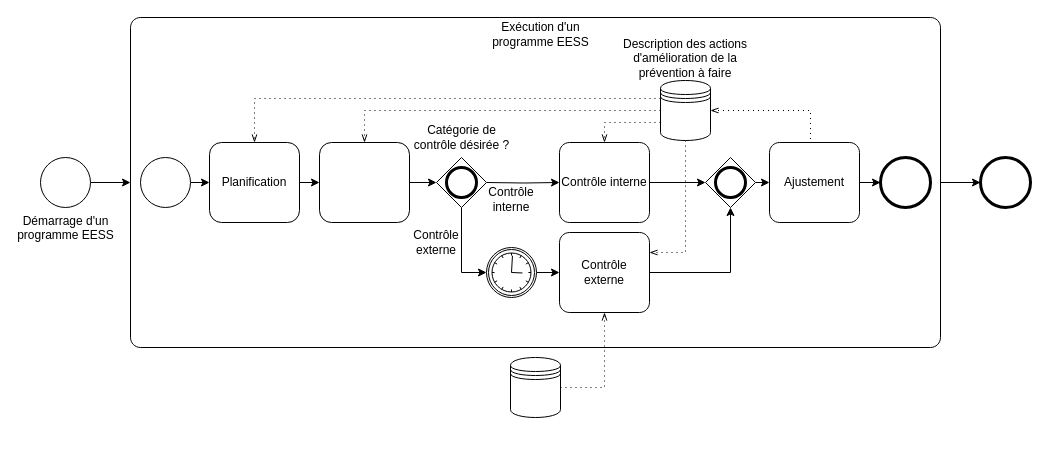
Image size: 1048x471. Some labels were removed from this diagram. Here are the shapes that lost their labels. From the top down, the centre of each, then its label:
At (364,182): "Déploiement".
At (511,272): "Attente t temps".
At (535,387): "Faux positifs et vrais positifs détectés".
